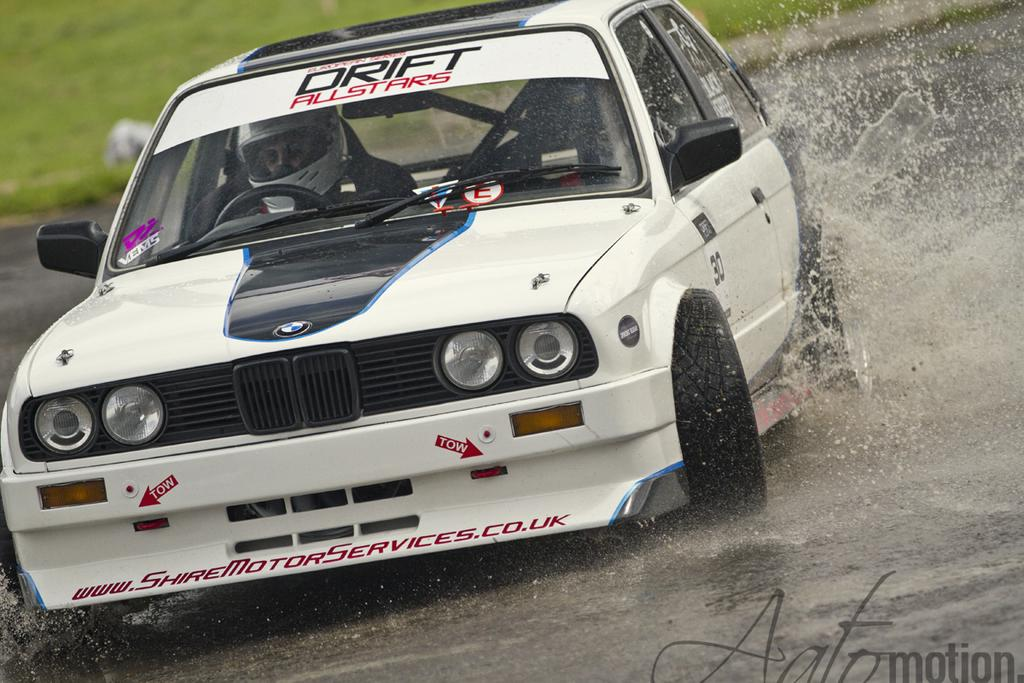helmet: (235, 87, 349, 214)
